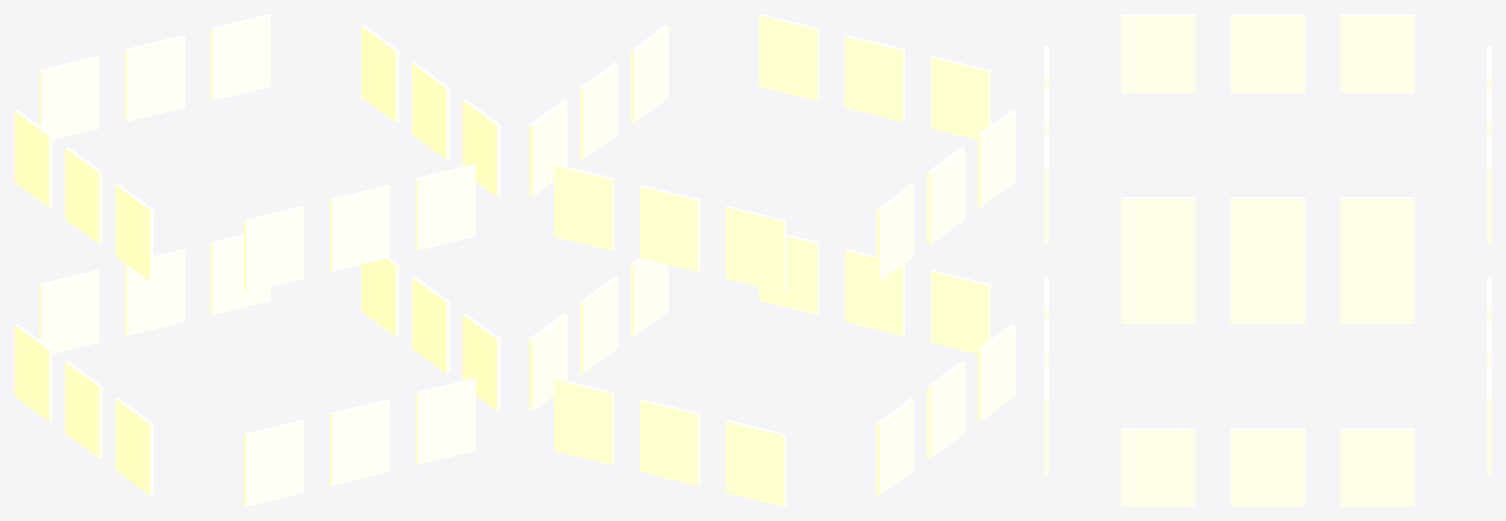
Rendered from building-l.glb.
The picture shows the model from 3 angles, left to right: view 1: azimuth 30°, elevation 25°; view 2: azimuth 150°, elevation 25°; view 3: azimuth 270°, elevation 25°; orthographic projection. The views are drawn at different scales.
Visible parts, largest first — view 1: WindowLight_front_1_2, WindowLight_back_1_2, WindowLight_front_0_0, WindowLight_back_1_1, WindowLight_front_0_1, WindowLight_front_0_2, WindowLight_front_1_0, WindowLight_front_1_1, WindowLight_back_0_0, WindowLight_back_1_0, WindowLight_back_0_1, WindowLight_left_1_2 (+12 smaller); view 2: WindowLight_back_1_2, WindowLight_back_0_0, WindowLight_front_1_2, WindowLight_back_0_1, WindowLight_back_0_2, WindowLight_back_1_0, WindowLight_back_1_1, WindowLight_front_1_1, WindowLight_front_0_0, WindowLight_front_1_0, WindowLight_front_0_1, WindowLight_left_1_0 (+12 smaller); view 3: WindowLight_left_1_1, WindowLight_right_0_1, WindowLight_right_1_1, WindowLight_left_1_0, WindowLight_left_1_2, WindowLight_right_0_0, WindowLight_right_0_2, WindowLight_right_1_0, WindowLight_right_1_2, WindowLight_left_0_1, WindowLight_left_0_0, WindowLight_left_0_2 (+4 smaller).
Part boxes in pixels (left/top/right/bottom): WindowLight_front_1_2: left=415, top=164, right=475, bottom=250; WindowLight_back_1_2: left=210, top=14, right=270, bottom=100; WindowLight_front_0_0: left=244, top=420, right=304, bottom=506; WindowLight_back_1_1: left=125, top=35, right=185, bottom=121; WindowLight_front_0_1: left=329, top=399, right=389, bottom=485; WindowLight_front_0_2: left=415, top=378, right=475, bottom=464; WindowLight_front_1_0: left=244, top=206, right=304, bottom=292; WindowLight_front_1_1: left=329, top=185, right=389, bottom=271; WindowLight_back_0_0: left=39, top=270, right=99, bottom=353; WindowLight_back_1_0: left=39, top=56, right=99, bottom=139; WindowLight_back_0_1: left=125, top=249, right=185, bottom=335; WindowLight_left_1_2: left=14, top=110, right=52, bottom=207; WindowLight_back_1_2: left=554, top=164, right=614, bottom=250; WindowLight_back_0_0: left=725, top=420, right=785, bottom=506; WindowLight_front_1_2: left=759, top=14, right=819, bottom=100; WindowLight_back_0_1: left=640, top=399, right=700, bottom=485; WindowLight_back_0_2: left=554, top=378, right=614, bottom=464; WindowLight_back_1_0: left=725, top=206, right=785, bottom=292; WindowLight_back_1_1: left=640, top=185, right=700, bottom=271; WindowLight_front_1_1: left=844, top=35, right=904, bottom=121; WindowLight_front_0_0: left=930, top=270, right=990, bottom=353; WindowLight_front_1_0: left=930, top=56, right=990, bottom=139; WindowLight_front_0_1: left=844, top=249, right=904, bottom=335; WindowLight_left_1_0: left=977, top=110, right=1015, bottom=207; WindowLight_left_1_1: left=1230, top=14, right=1305, bottom=92; WindowLight_right_0_1: left=1230, top=428, right=1305, bottom=506; WindowLight_right_1_1: left=1230, top=197, right=1305, bottom=275; WindowLight_left_1_0: left=1121, top=14, right=1195, bottom=92; WindowLight_left_1_2: left=1340, top=14, right=1414, bottom=92; WindowLight_right_0_0: left=1121, top=428, right=1195, bottom=506; WindowLight_right_0_2: left=1340, top=428, right=1414, bottom=506; WindowLight_right_1_0: left=1121, top=197, right=1195, bottom=275; WindowLight_right_1_2: left=1340, top=197, right=1414, bottom=275; WindowLight_left_0_1: left=1230, top=275, right=1305, bottom=323; WindowLight_left_0_0: left=1121, top=275, right=1195, bottom=323; WindowLight_left_0_2: left=1340, top=275, right=1414, bottom=323.
Size of the model in its own units: 1.4 by 1.09 by 1.43.
